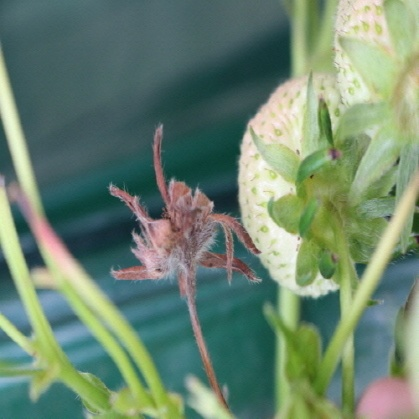Gray_Mold: (157, 109, 312, 305)
